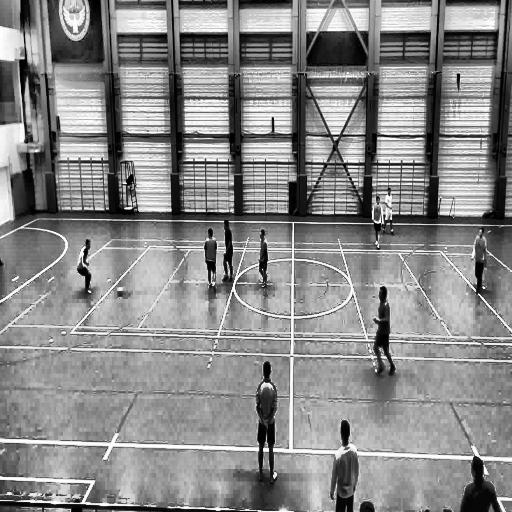ball: (118, 287, 123, 297)
player: (254, 362, 280, 482), (370, 284, 397, 378), (330, 418, 357, 512), (472, 225, 488, 293), (77, 238, 93, 295), (205, 226, 218, 290), (222, 220, 234, 285), (372, 196, 383, 249), (259, 228, 268, 290), (384, 188, 394, 235)
